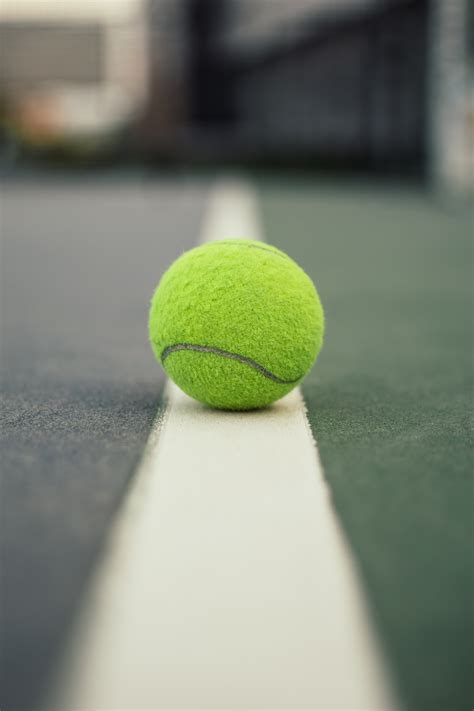tennis_ball: (146, 238, 326, 415)
